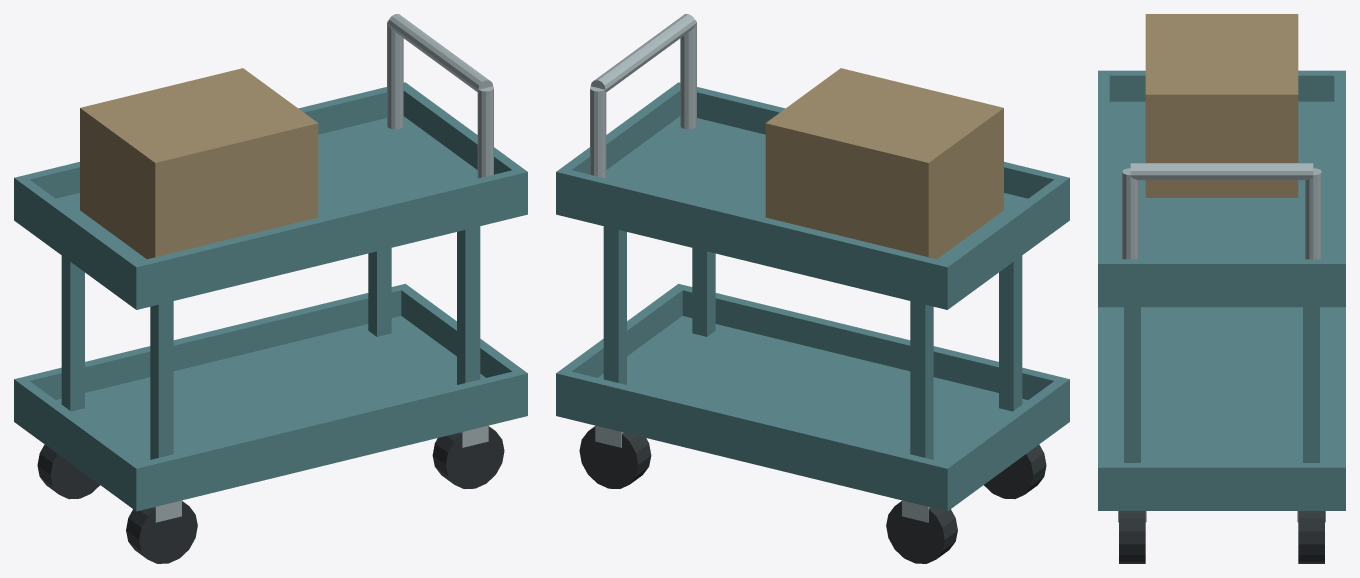
Rendered from maintenance_cart.glb.
The picture shows the model from 3 angles, left to right: view 1: azimuth 30°, elevation 25°; view 2: azimuth 150°, elevation 25°; view 3: azimuth 270°, elevation 25°; orthographic projection.
Parts seen in each view (by area): view 1: maintenance_cart_SPOT_detail_paint, maintenance_cart_SPOT_detail_cargo, maintenance_cart_SPOT_detail_rubber, maintenance_cart_SPOT_detail_galvanized; view 2: maintenance_cart_SPOT_detail_paint, maintenance_cart_SPOT_detail_cargo, maintenance_cart_SPOT_detail_rubber, maintenance_cart_SPOT_detail_galvanized; view 3: maintenance_cart_SPOT_detail_paint, maintenance_cart_SPOT_detail_cargo, maintenance_cart_SPOT_detail_galvanized, maintenance_cart_SPOT_detail_rubber.
Part boxes in pixels (x1,y1,x2,y2): maintenance_cart_SPOT_detail_paint: (14,82,527,511); maintenance_cart_SPOT_detail_cargo: (80,68,318,259); maintenance_cart_SPOT_detail_rubber: (37,426,504,563); maintenance_cart_SPOT_detail_galvanized: (154,14,493,522); maintenance_cart_SPOT_detail_paint: (556,82,1069,511); maintenance_cart_SPOT_detail_cargo: (765,68,1003,259); maintenance_cart_SPOT_detail_rubber: (579,426,1046,563); maintenance_cart_SPOT_detail_galvanized: (590,14,929,522); maintenance_cart_SPOT_detail_paint: (1098,70,1345,510); maintenance_cart_SPOT_detail_cargo: (1145,14,1298,197); maintenance_cart_SPOT_detail_galvanized: (1118,163,1325,522); maintenance_cart_SPOT_detail_rubber: (1119,511,1324,563).
Size of the model in its own units: 1.2 by 1.17 by 0.65.
